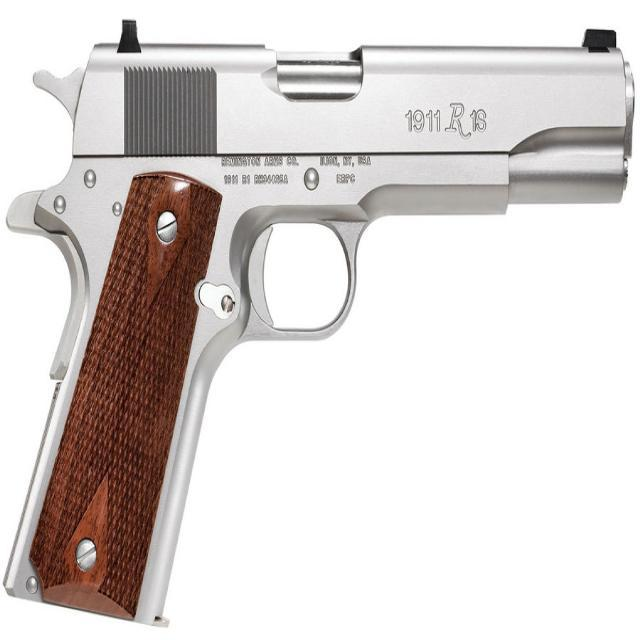Pistol: (10, 18, 632, 618)
